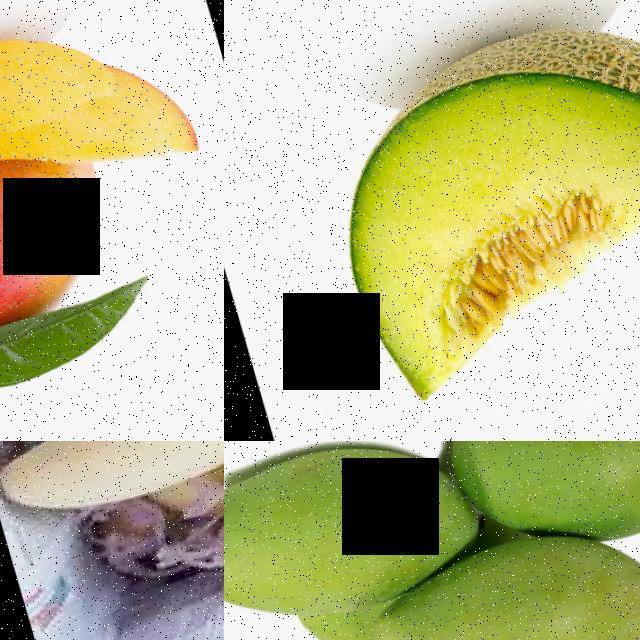mango: (224, 441, 474, 640), (358, 523, 640, 640), (0, 192, 134, 390), (440, 441, 640, 567), (0, 441, 224, 535)
melon: (290, 0, 640, 420)
